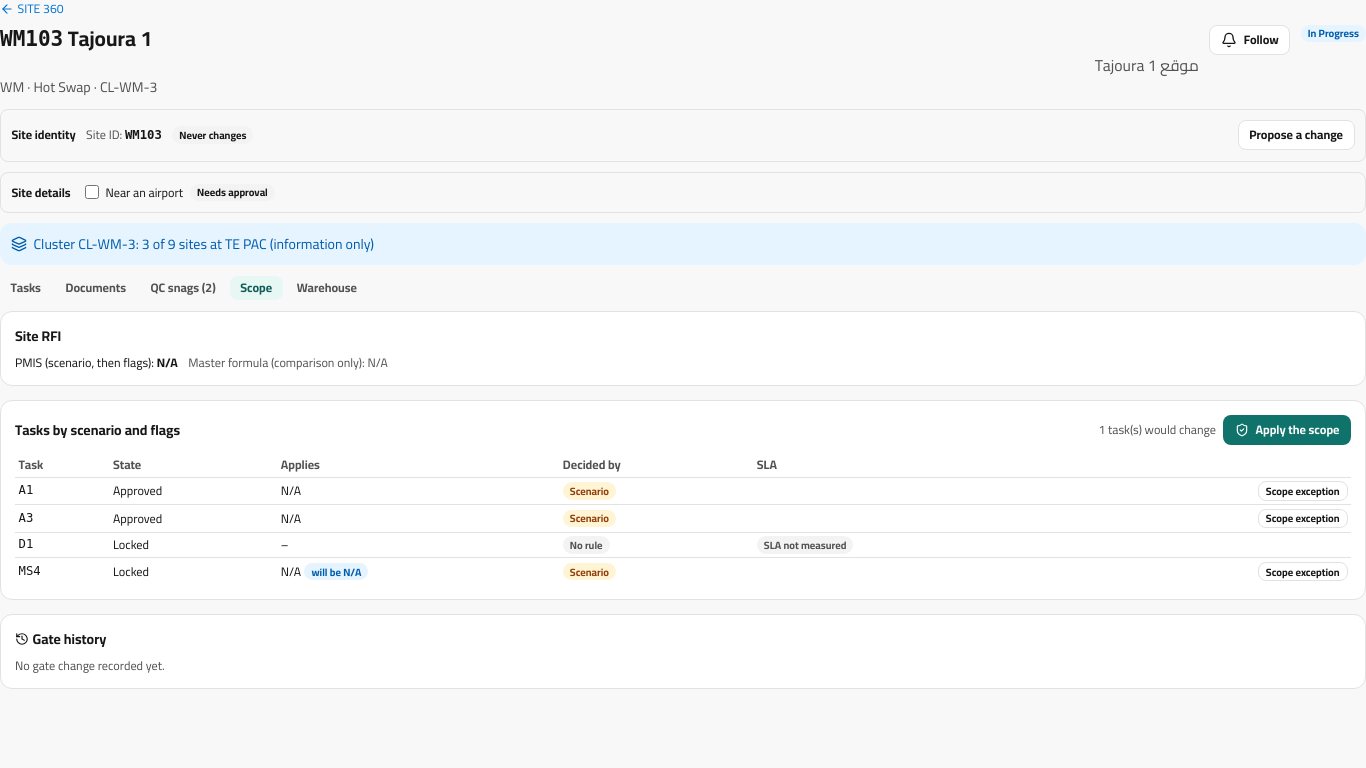
Test: Q15 and Q3: the Scope section of a site › applies the scope of a Hot Swap and says how many tasks changed
Click the button with test id "scope-apply" at point(1287, 430), box [1223,415,1351,445]
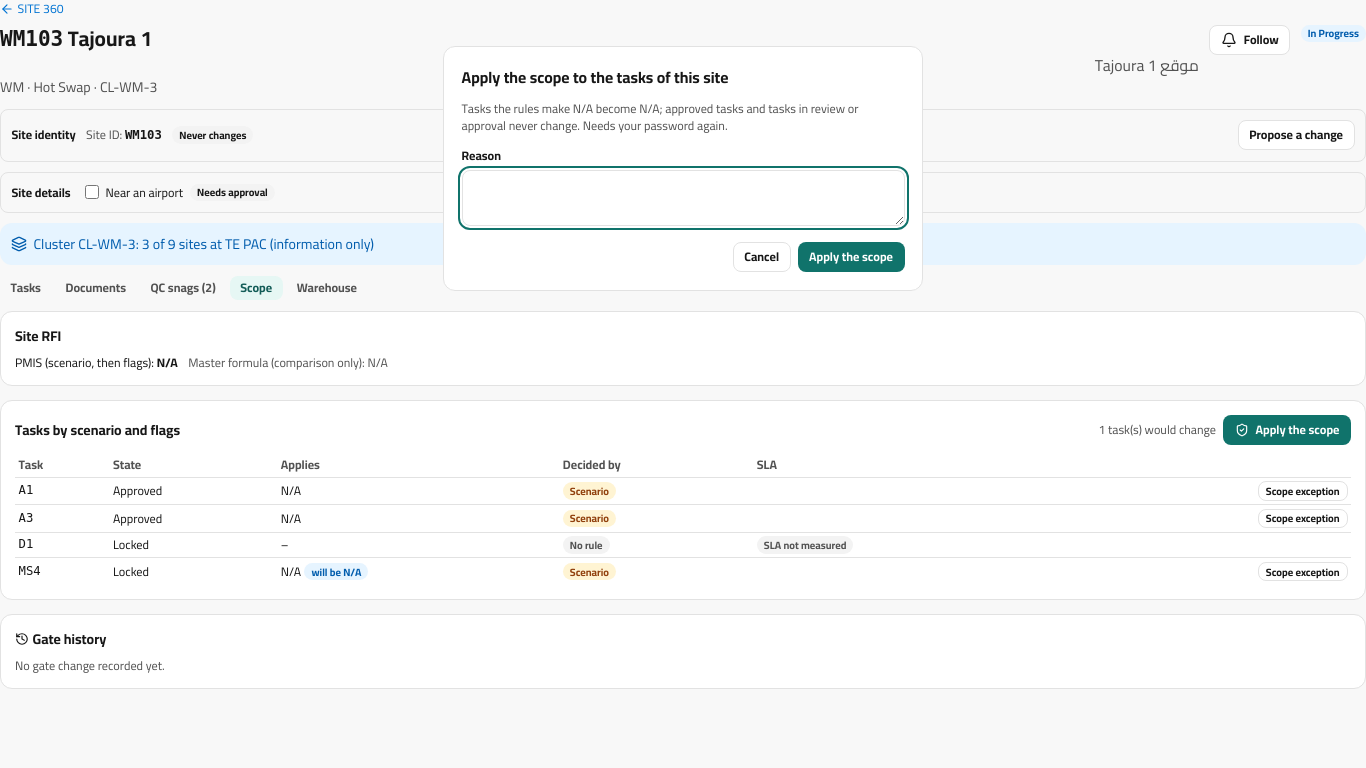
Type "scope reviewed with the PM" into the text box with test id "scope-apply-dlg-reason" at point(683, 198), box [462,170,904,226]
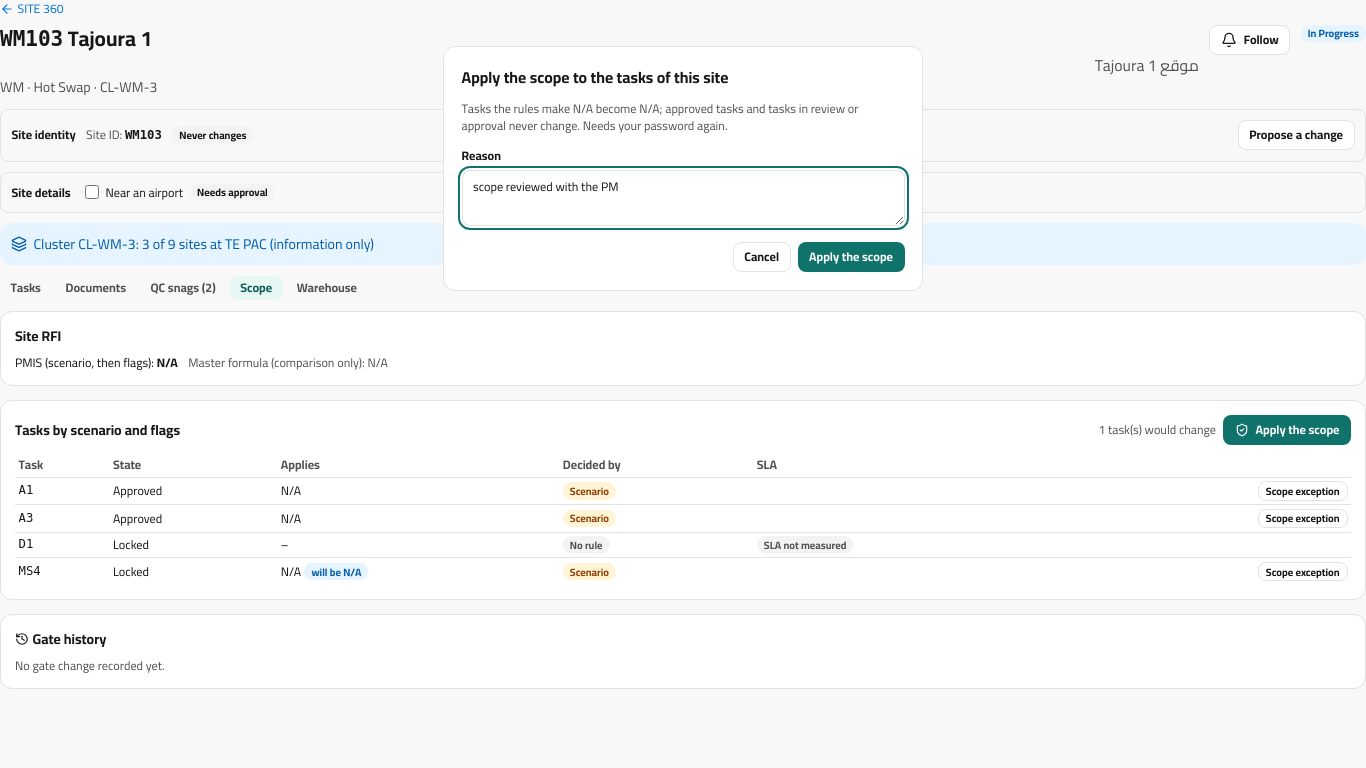
Click the button with test id "scope-apply-dlg-submit" at point(851, 257), box [798,242,904,272]
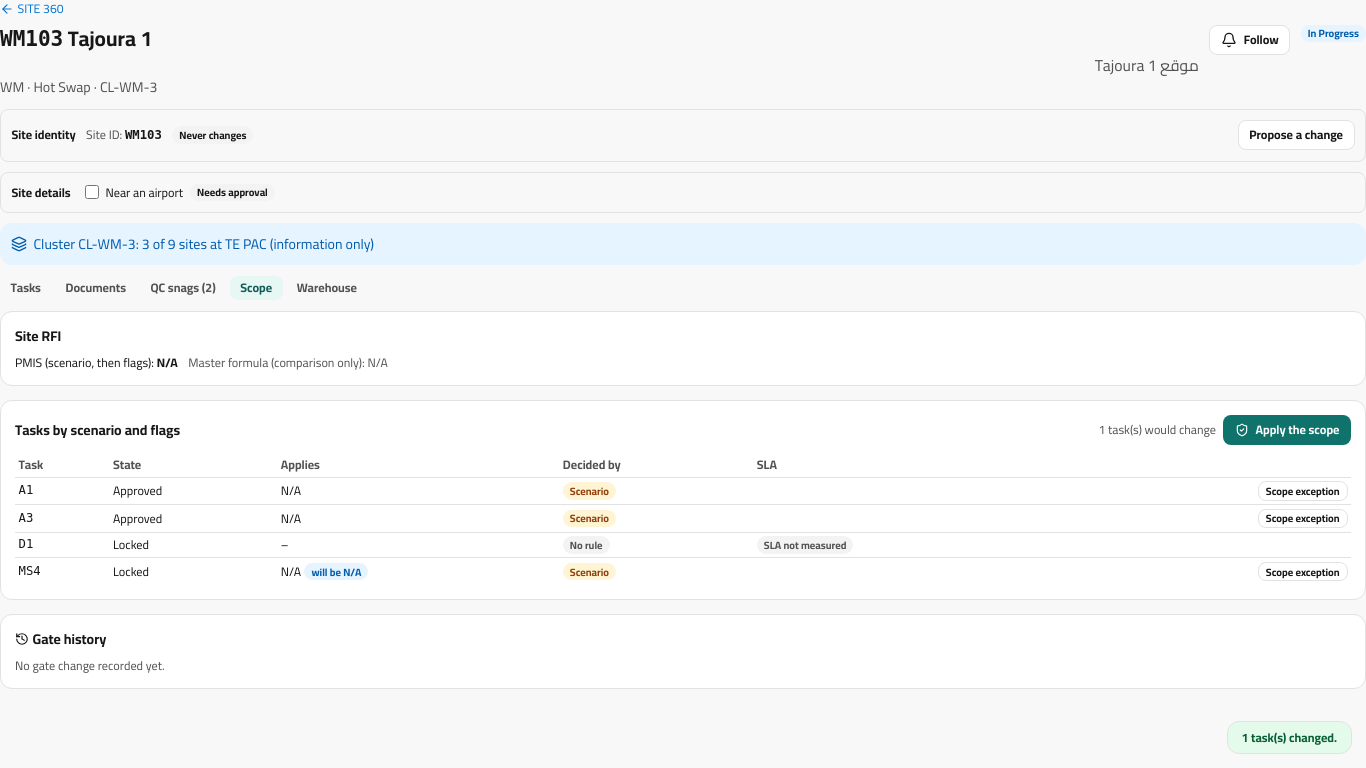
Check: the text "1 task(s) changed." is shown, box [1226,720,1352,754]
Check: the dialog with test id "scope-apply-dlg" is gone
